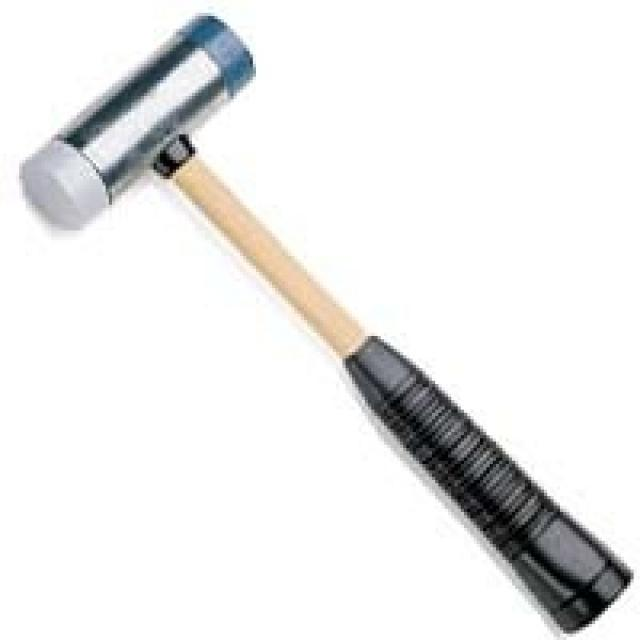hammer: (11, 6, 636, 636)
